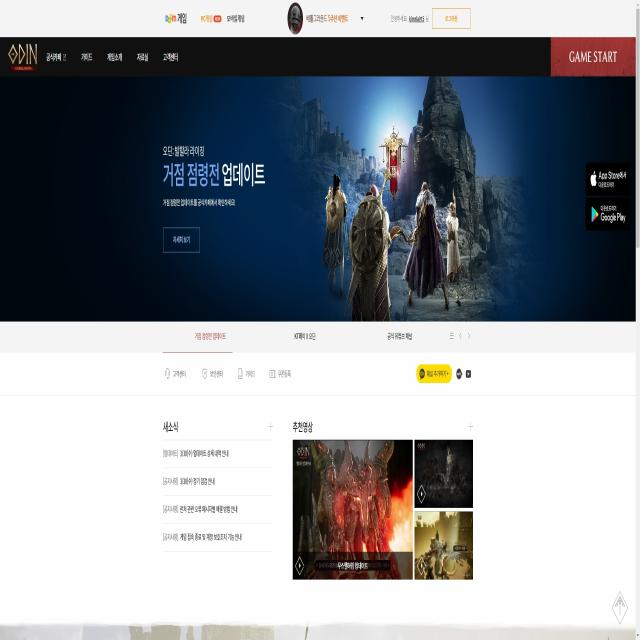menu-bar: (387, 6, 474, 32)
tab-bar: (159, 322, 472, 357), (5, 38, 180, 76)
